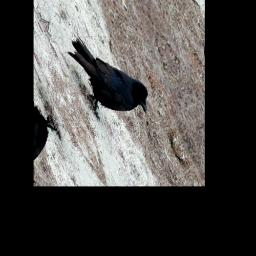Crow: (61, 17, 156, 135)
